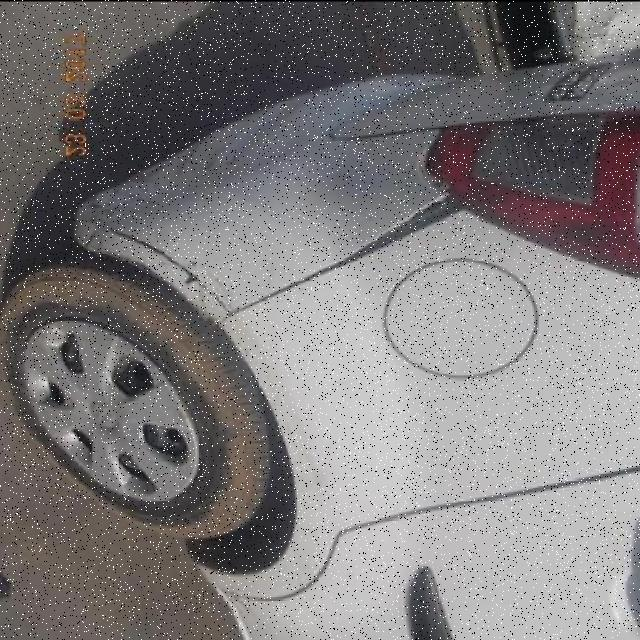damage: (207, 196, 465, 325), (96, 223, 229, 308), (79, 159, 160, 224), (417, 125, 456, 192), (220, 584, 259, 612), (81, 231, 101, 253)
